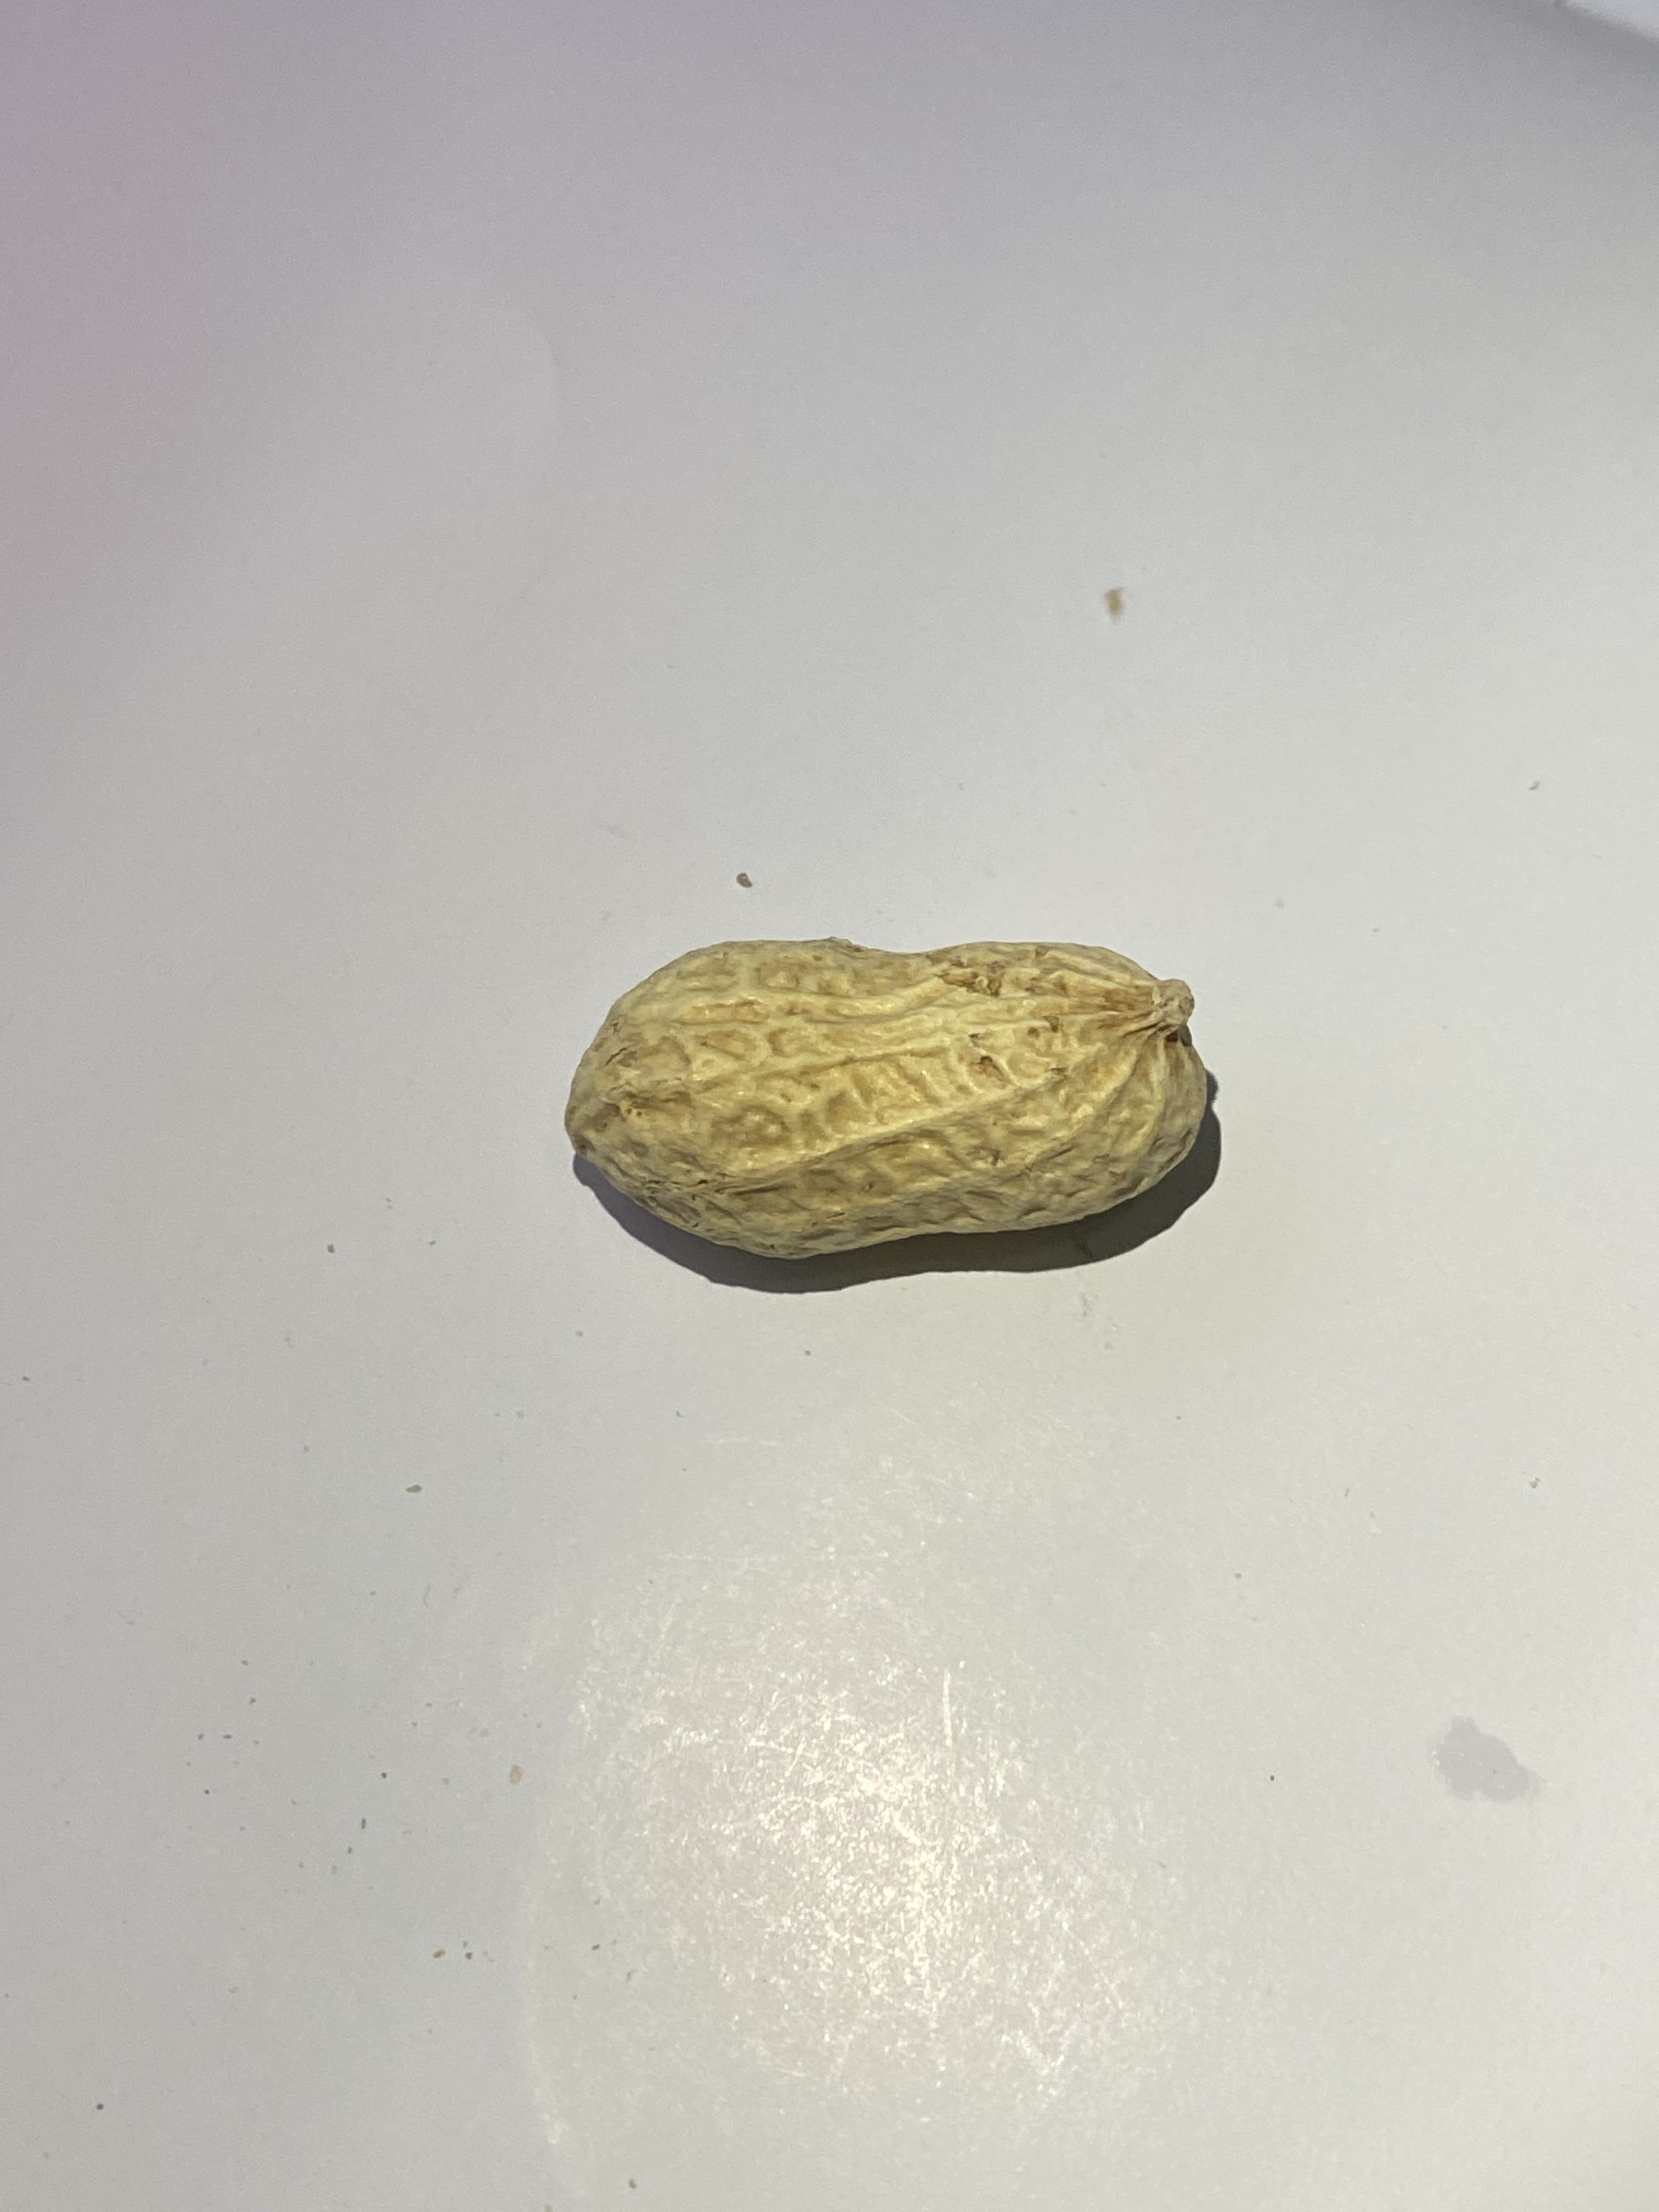kacang2: (544, 932, 1234, 1273)
